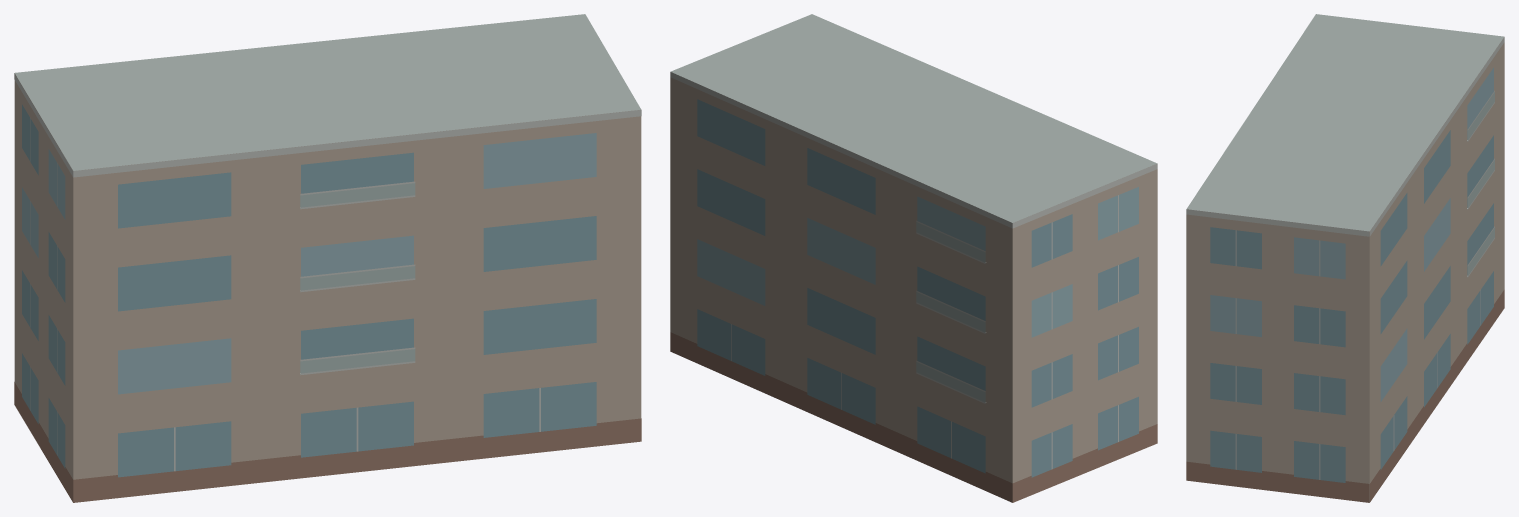
File: survey-upis-32877707.glb
3 views of the same model, side by side, from view 1: azimuth 30°, elevation 25°; view 2: azimuth 150°, elevation 25°; view 3: azimuth 270°, elevation 25° (orthographic). The views are drawn at different scales.
Visible parts, largest first — view 1: survey-upis-32877707.tmp; view 2: survey-upis-32877707.tmp; view 3: survey-upis-32877707.tmp.
Boxes of the visible parts, bbox=[...] form: survey-upis-32877707.tmp: bbox=[14, 14, 641, 502]; survey-upis-32877707.tmp: bbox=[670, 14, 1157, 502]; survey-upis-32877707.tmp: bbox=[1186, 14, 1504, 502].
Size of the model in its own units: 21.32 by 12.4 by 13.19.
